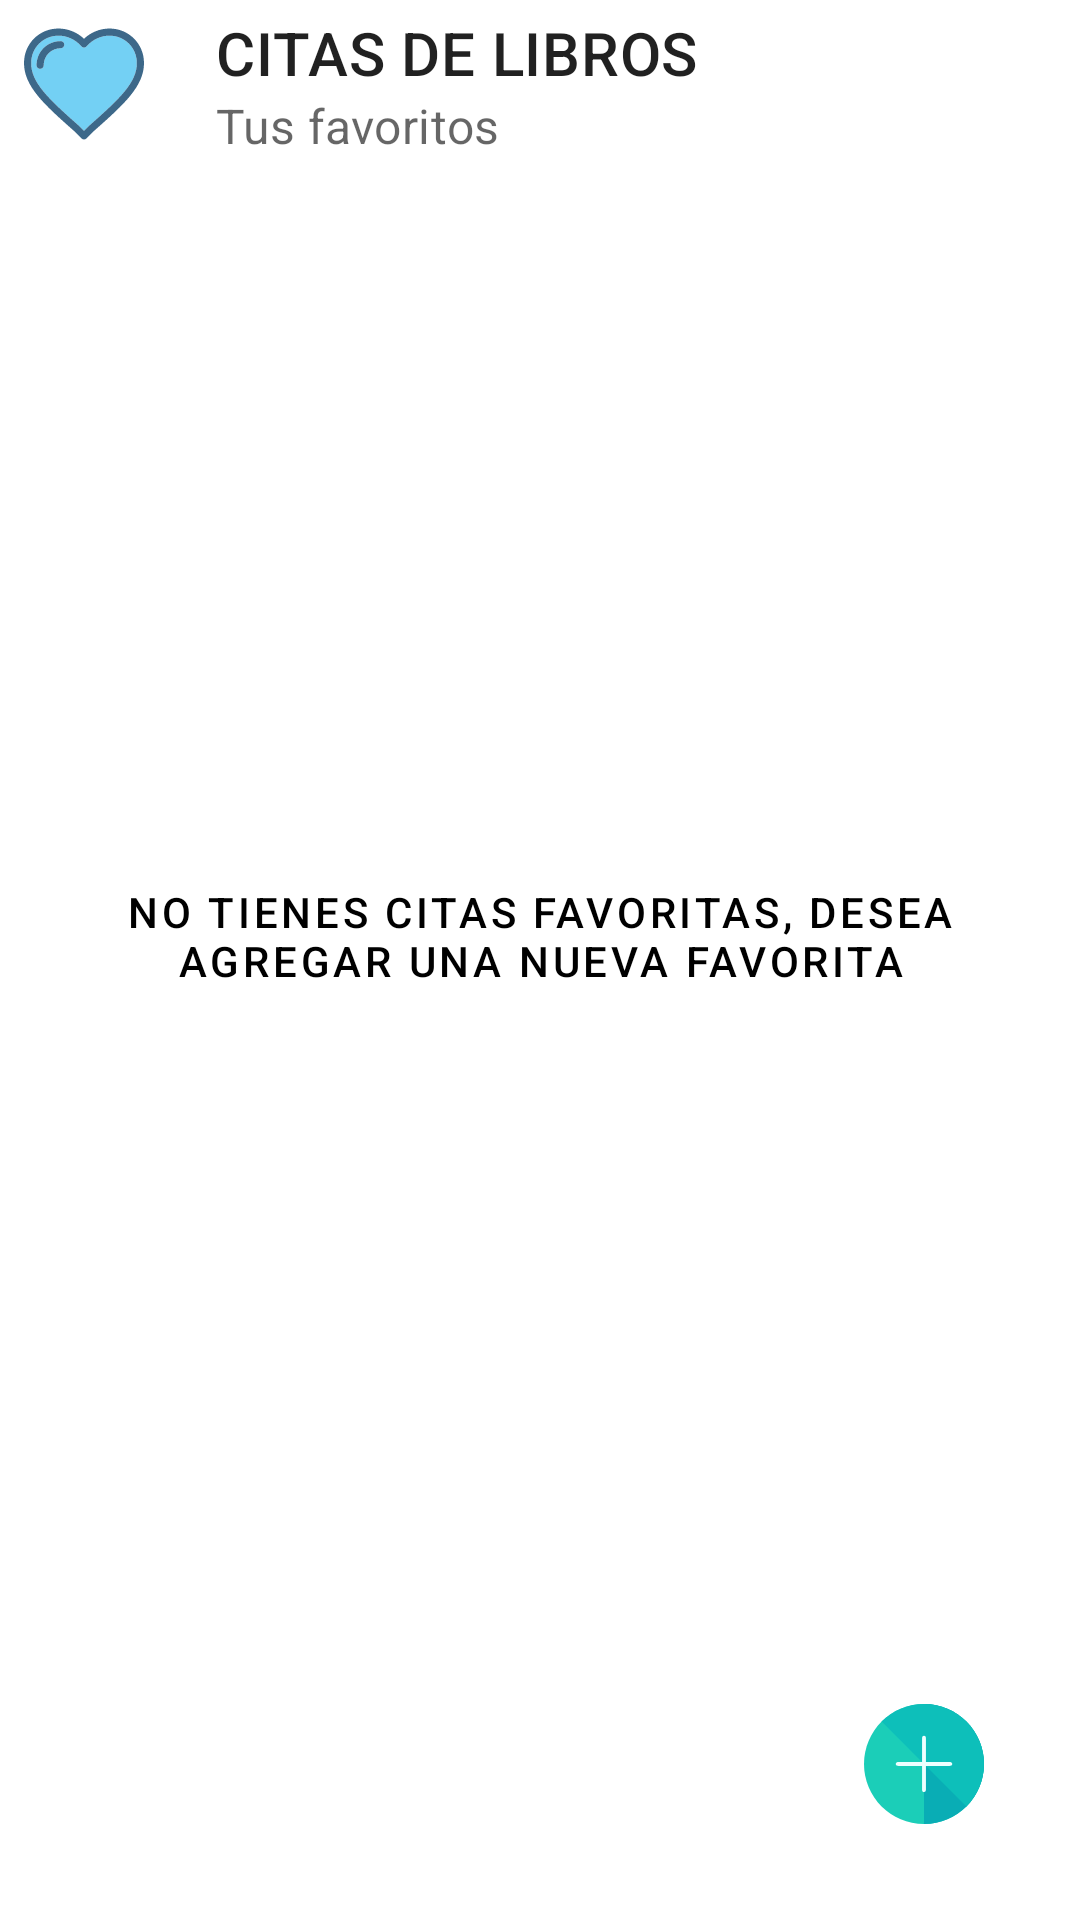

Icons on this 1080×1920 Android screen, each with its box as bbox=[x1, y1, x2, y2]:
add quote fav: bbox=[864, 1704, 984, 1824]
